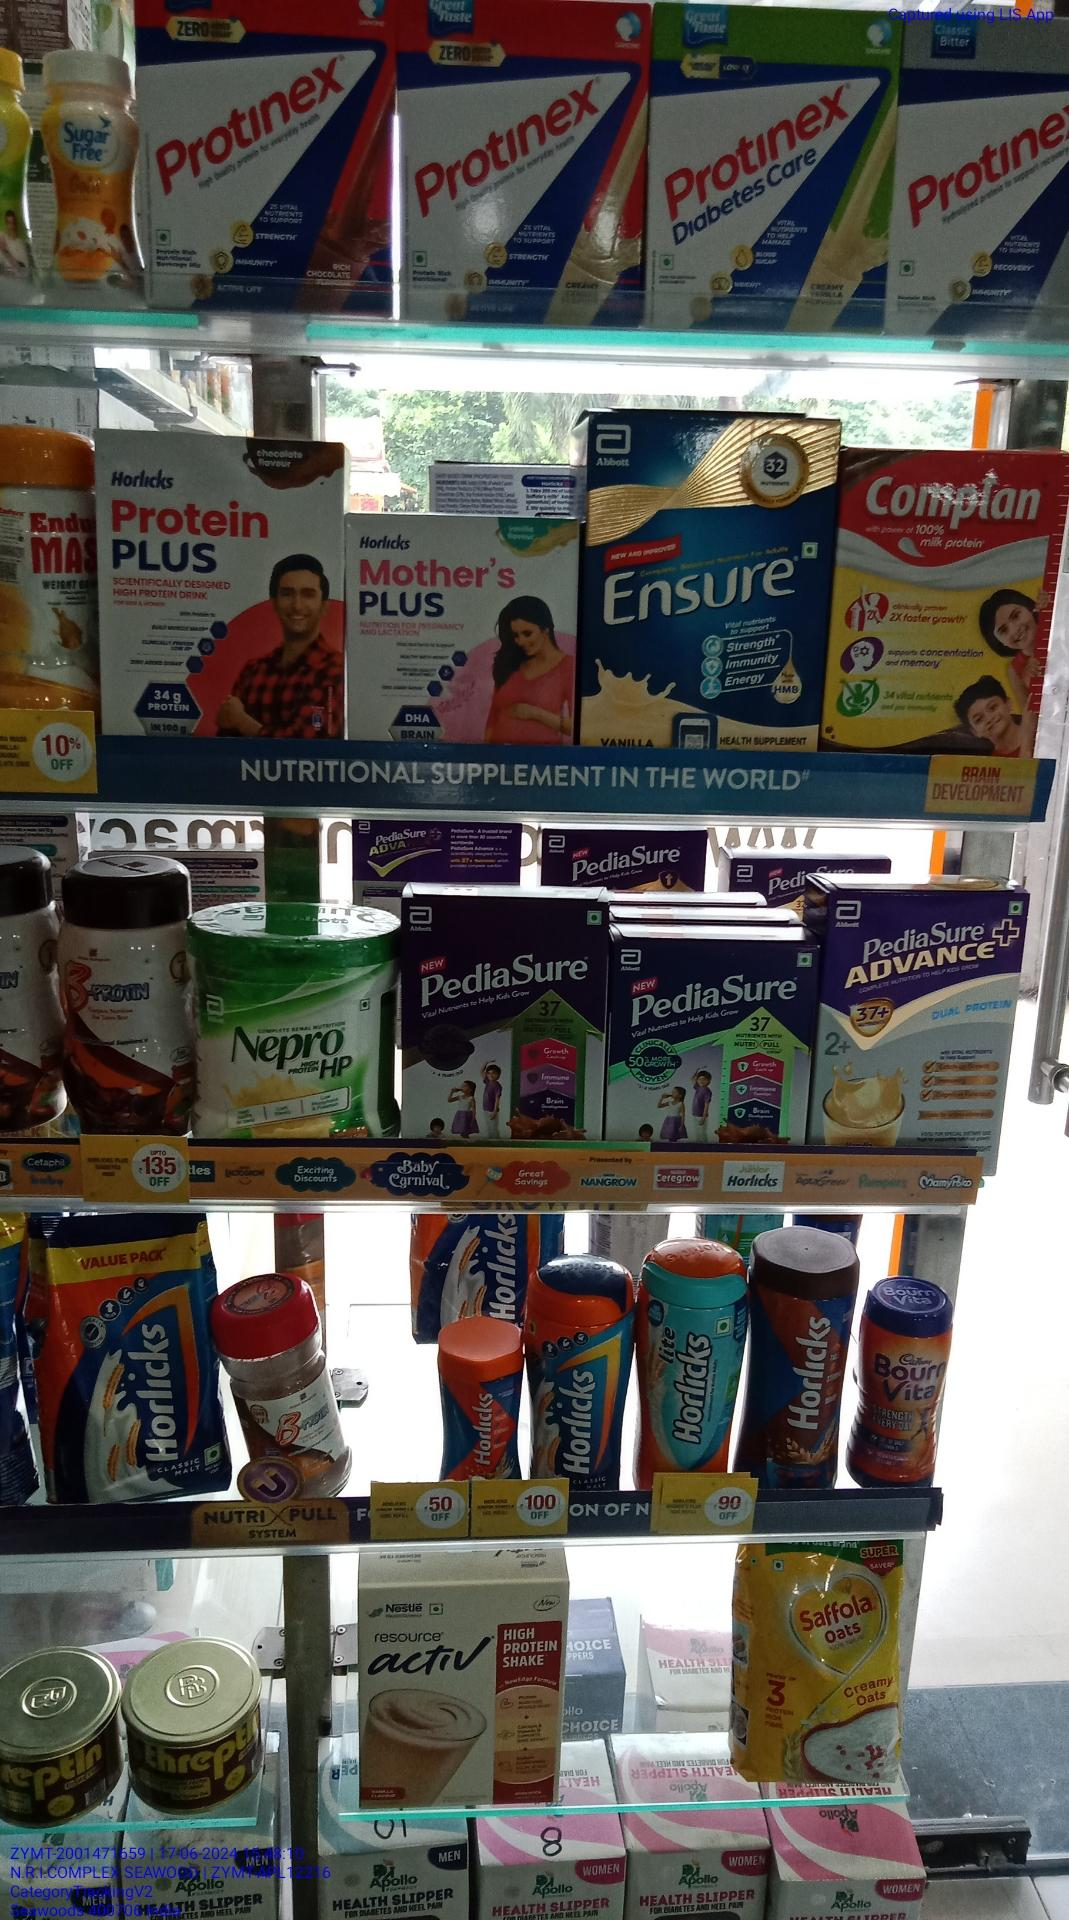BOURN_VITA_200_G_JAR: (860, 1274, 944, 1487)
COMPLAN_CHOCOLATE_500_GMS_PACK: (833, 453, 1056, 753)
ENSURE_VANILLA_400_G_PACK: (586, 413, 827, 751)
HORLICKS_LITE_REGULAR_MALT_500_GM_JAR: (636, 1237, 743, 1471)
HORLICK_CHOCOLATE_500_G_JAR: (749, 1229, 848, 1488)
HORLICK_CLASSIC_MALT_500_G_JAR: (525, 1255, 632, 1498)
HORLICK_CLASSIC_MALT_750_G_POUCH: (43, 1219, 220, 1499)
PEDIASURE_CHOCOLATE_500_G_PACK: (402, 895, 604, 1141)
